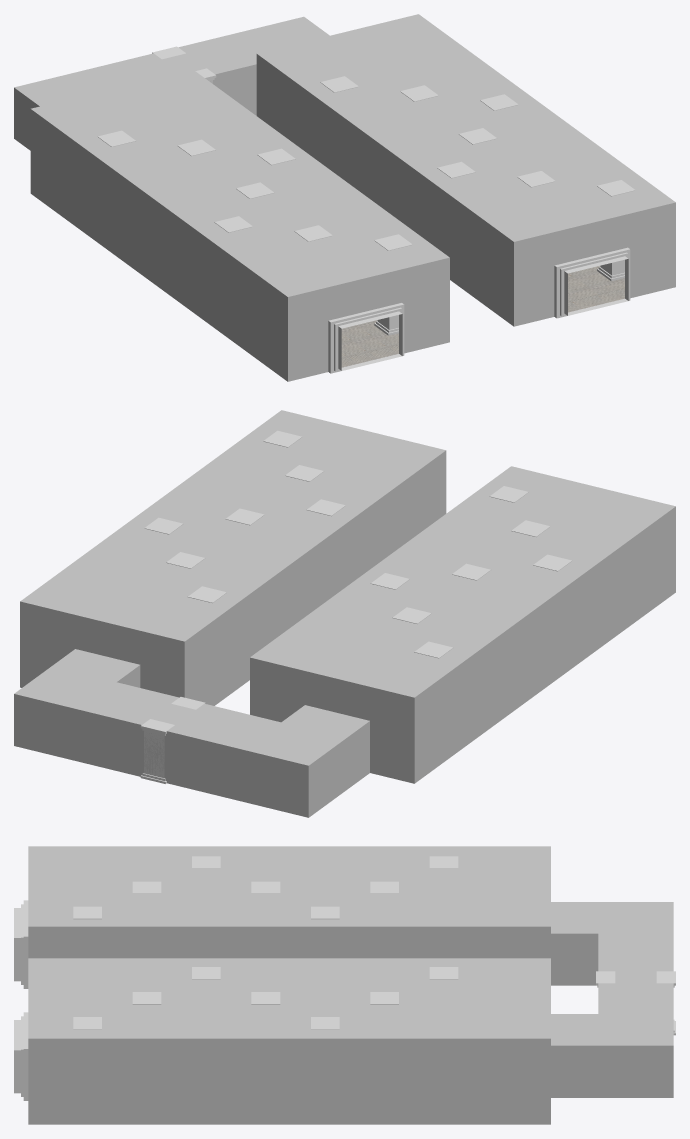
The model's file is Gauntlet.fbx.
3 views of the same model, one above another, from view 1: azimuth 30°, elevation 25°; view 2: azimuth 150°, elevation 25°; view 3: azimuth 270°, elevation 25° (orthographic).
Parts seen in each view (by area): view 1: Gauntlet8, Gauntlet2, Gauntlet9, Gauntlet1, Gauntlet5, Gauntlet7, Gauntlet3, Gauntlet1-Obstacle, Gauntlet8-Obstacle, Gauntlet6, Gaunt - Entrance, Gaunt - Entrance.001 (+1 smaller); view 2: Gauntlet8, Gauntlet2, Gauntlet7, Gauntlet3, Gauntlet5, Gauntlet6, Gauntlet4, Gauntlet9, Gauntlet1, Gauntlet8-Obstacle, Gauntlet1-Obstacle, Gauntlet5-Obstacle; view 3: Gauntlet2, Gauntlet8, Gauntlet3, Gauntlet4, Gauntlet7, Gauntlet5, Gauntlet6, Gauntlet1, Gauntlet8-Obstacle, Gauntlet9, Gauntlet1-Obstacle, Gaunt - Entrance.001 (+2 smaller).
Boxes of the visible parts, x1,y1,x2,y2 form: Gauntlet8: [54, 86, 437, 372]; Gauntlet2: [280, 31, 663, 317]; Gauntlet9: [276, 249, 449, 381]; Gauntlet1: [502, 194, 675, 326]; Gauntlet5: [78, 32, 265, 115]; Gauntlet7: [30, 69, 215, 210]; Gauntlet3: [256, 14, 441, 132]; Gauntlet1-Obstacle: [320, 76, 635, 281]; Gauntlet8-Obstacle: [97, 130, 412, 335]; Gauntlet6: [14, 72, 103, 150]; Gaunt - Entrance: [554, 247, 630, 318]; Gaunt - Entrance.001: [328, 303, 404, 373]; Gauntlet8: [274, 475, 663, 765]; Gauntlet2: [44, 419, 434, 705]; Gauntlet7: [250, 640, 438, 783]; Gauntlet3: [20, 584, 208, 704]; Gauntlet5: [79, 682, 280, 801]; Gauntlet6: [243, 713, 358, 817]; Gauntlet4: [14, 657, 128, 761]; Gauntlet9: [499, 466, 675, 600]; Gauntlet1: [270, 410, 446, 521]; Gauntlet8-Obstacle: [370, 486, 571, 658]; Gauntlet1-Obstacle: [144, 430, 345, 603]; Gauntlet5-Obstacle: [140, 697, 205, 783]; Gauntlet2: [52, 958, 503, 1124]; Gauntlet8: [52, 846, 503, 958]; Gauntlet3: [503, 958, 574, 1124]; Gauntlet4: [574, 1014, 673, 1097]; Gauntlet7: [503, 846, 574, 985]; Gauntlet5: [598, 933, 673, 1013]; Gauntlet6: [574, 902, 673, 985]; Gauntlet1: [28, 958, 51, 1124]; Gauntlet8-Obstacle: [73, 856, 458, 919]; Gauntlet9: [28, 846, 51, 958]; Gauntlet1-Obstacle: [73, 967, 458, 1029]; Gaunt - Entrance.001: [14, 900, 28, 988].
Size of the model in its own units: 192 by 40.2 by 279.
3 materials, 1 textured.
